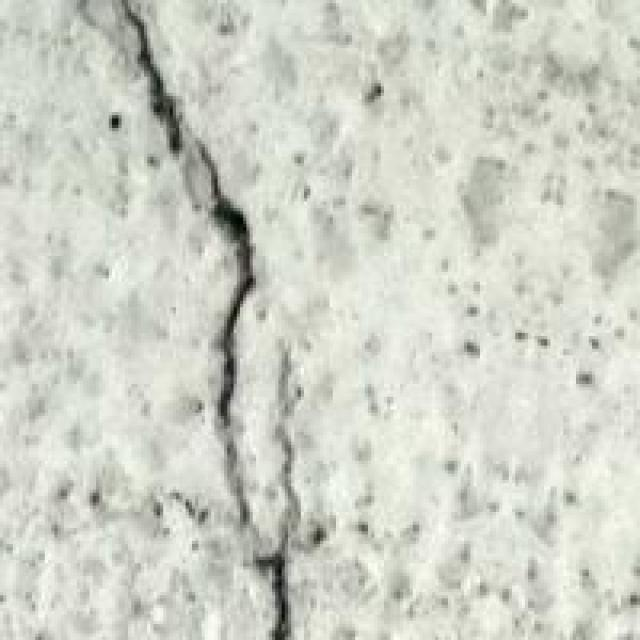crack: (102, 0, 349, 637)
